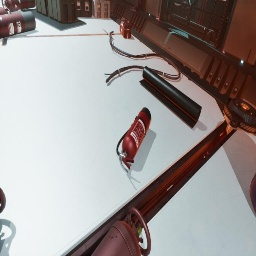FireExtinguisher ]: (116, 107, 151, 170)
FirstAidBox ,: (120, 17, 132, 39)
NitrogenTank ,: (91, 207, 151, 256), (0, 11, 36, 39), (1, 0, 35, 12), (0, 187, 6, 214), (0, 7, 12, 15)
